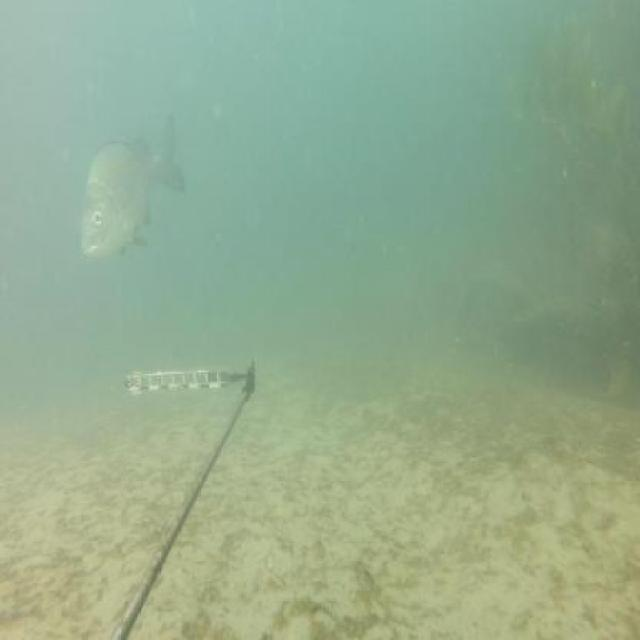acanthopagrus_palmaris: (76, 106, 192, 265)
